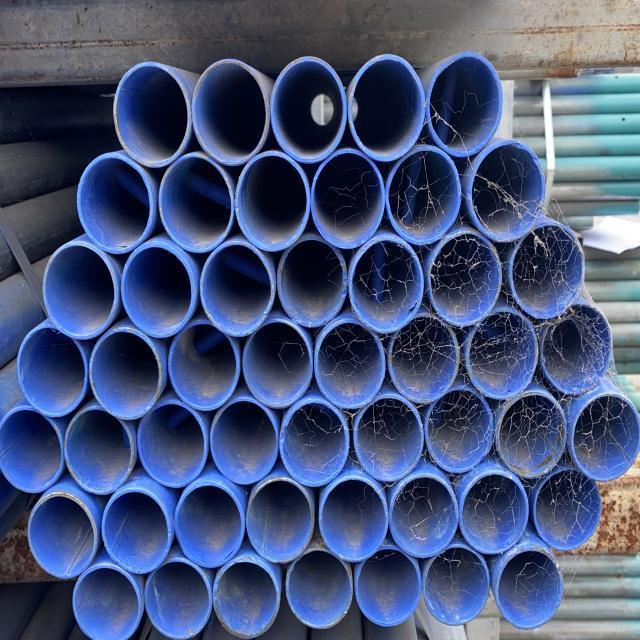pipe: (75, 148, 161, 259), (109, 61, 194, 171), (269, 52, 351, 165), (424, 49, 506, 162), (466, 134, 548, 247), (234, 143, 316, 254), (503, 218, 589, 322), (346, 52, 427, 162), (192, 56, 272, 167), (424, 226, 508, 330), (156, 150, 238, 256), (308, 146, 388, 254), (200, 236, 281, 342), (386, 140, 464, 249), (40, 238, 120, 344), (347, 234, 428, 338), (311, 311, 390, 415), (120, 238, 200, 339), (461, 304, 542, 403), (536, 298, 616, 398), (88, 323, 167, 424), (166, 314, 244, 414), (385, 308, 463, 406), (493, 386, 572, 482), (135, 394, 212, 492), (26, 481, 100, 582), (241, 314, 317, 412), (17, 320, 91, 420), (62, 402, 138, 499), (276, 232, 350, 330), (566, 387, 640, 485), (172, 474, 246, 572), (100, 483, 176, 577), (316, 472, 392, 566), (455, 463, 531, 557), (423, 382, 498, 477), (246, 471, 320, 565), (387, 466, 461, 560), (275, 396, 350, 488), (351, 394, 426, 486), (208, 396, 282, 489), (532, 461, 604, 554), (284, 542, 356, 634), (492, 539, 564, 631), (0, 400, 66, 498), (420, 542, 493, 626), (143, 553, 213, 640), (354, 545, 424, 631), (214, 552, 282, 640), (72, 559, 144, 640)
